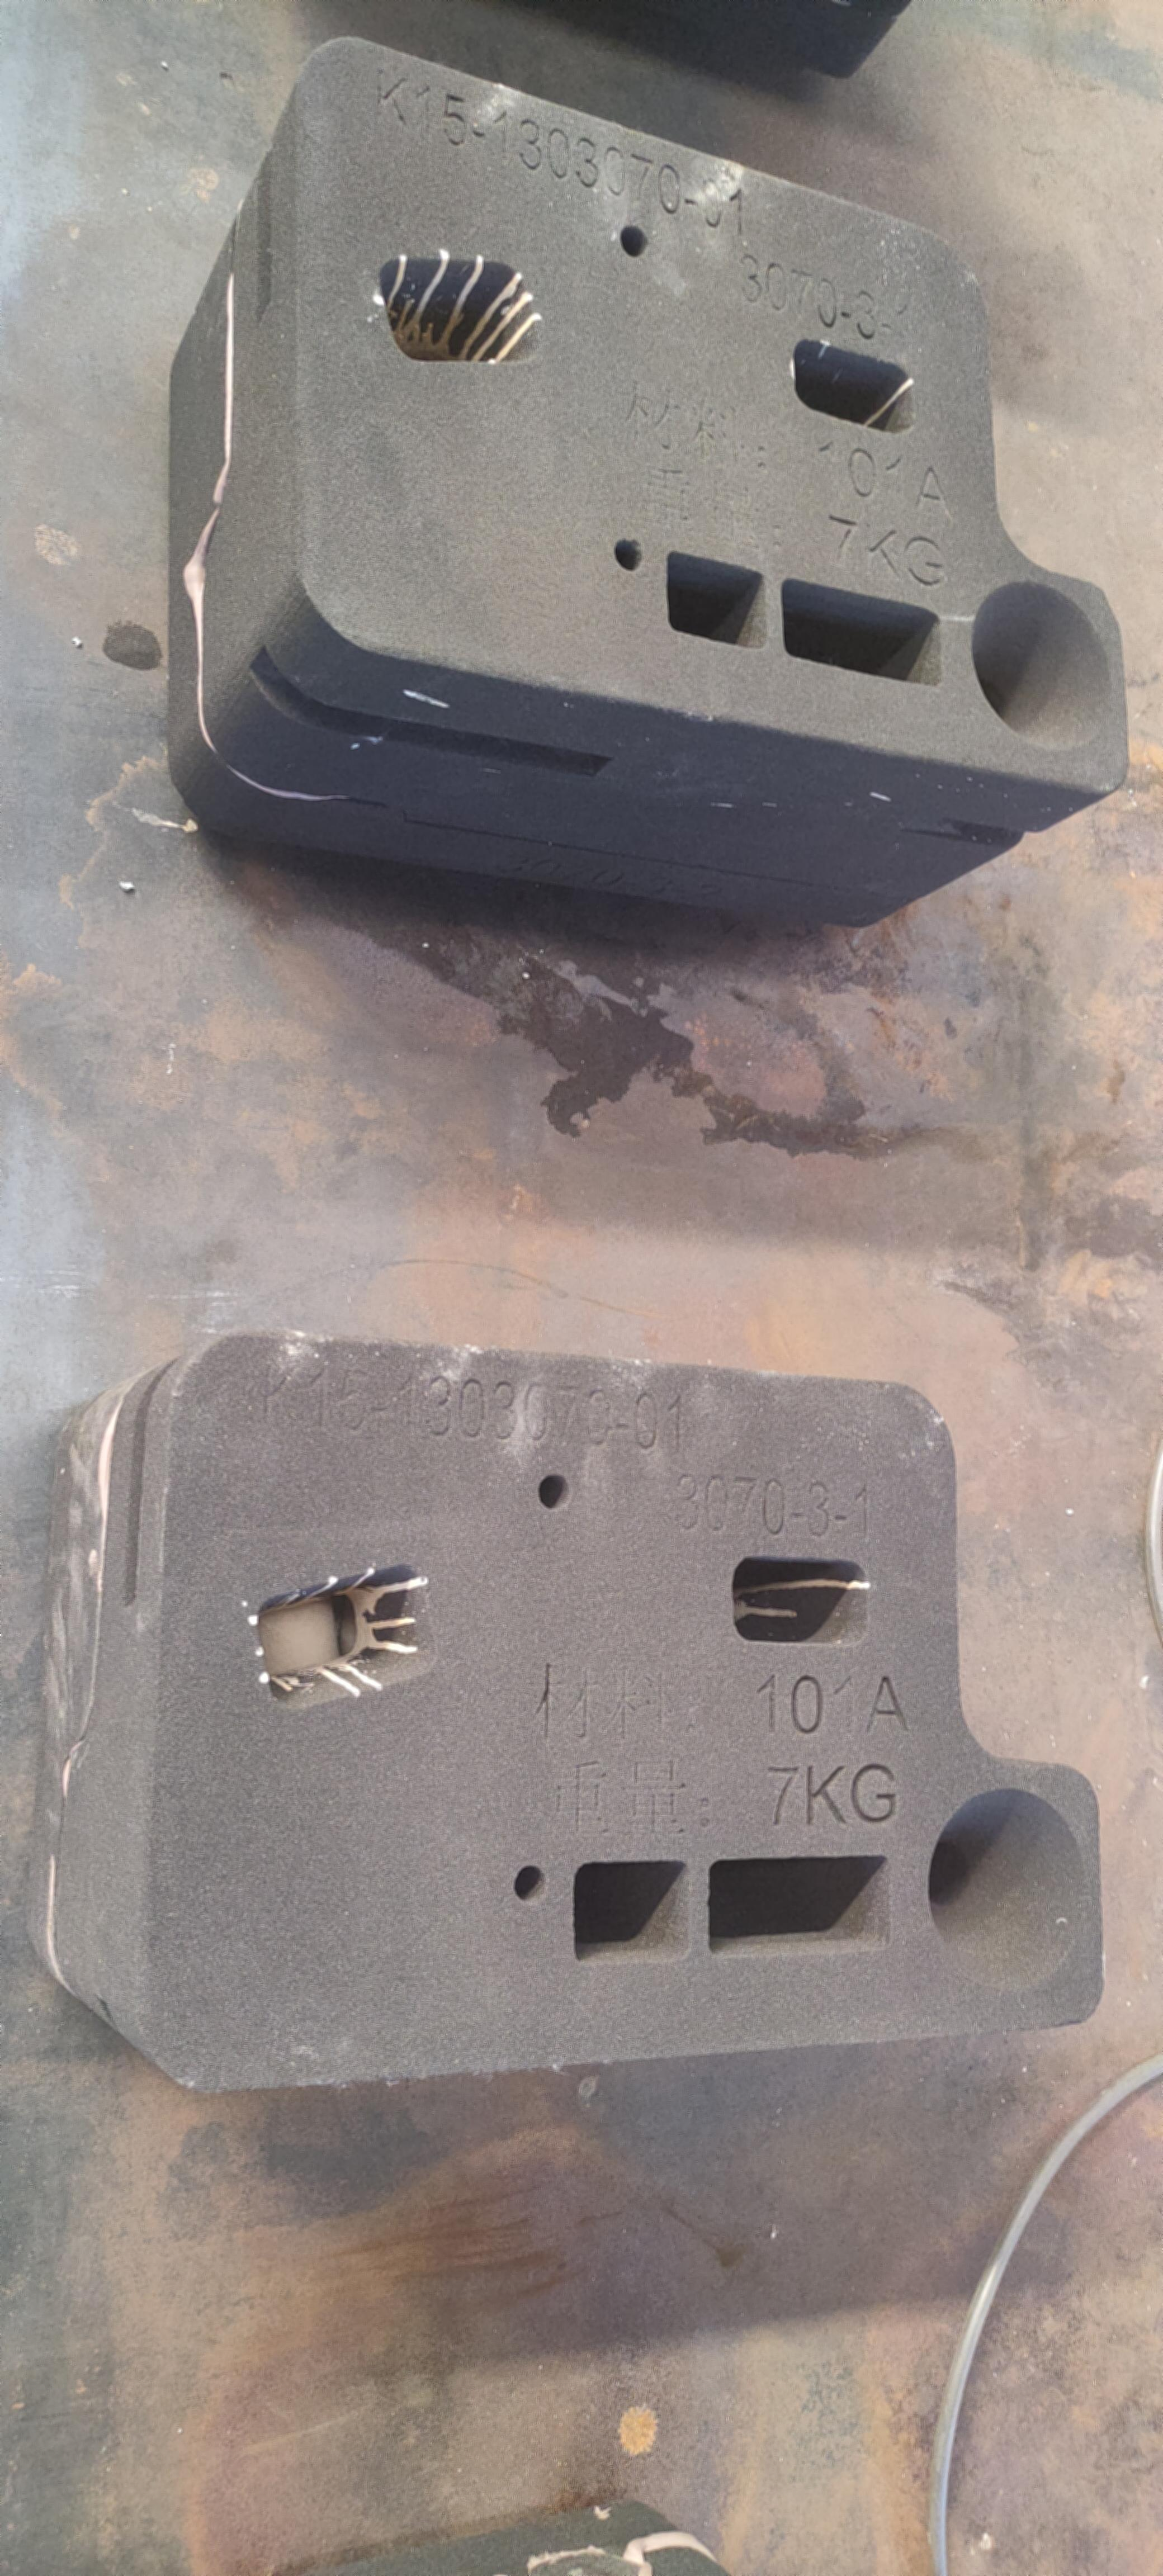pouring hole: (925, 1783, 1092, 1998), (971, 580, 1114, 752)
